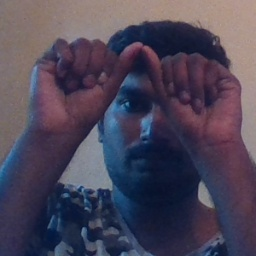A: (71, 32, 208, 134)
